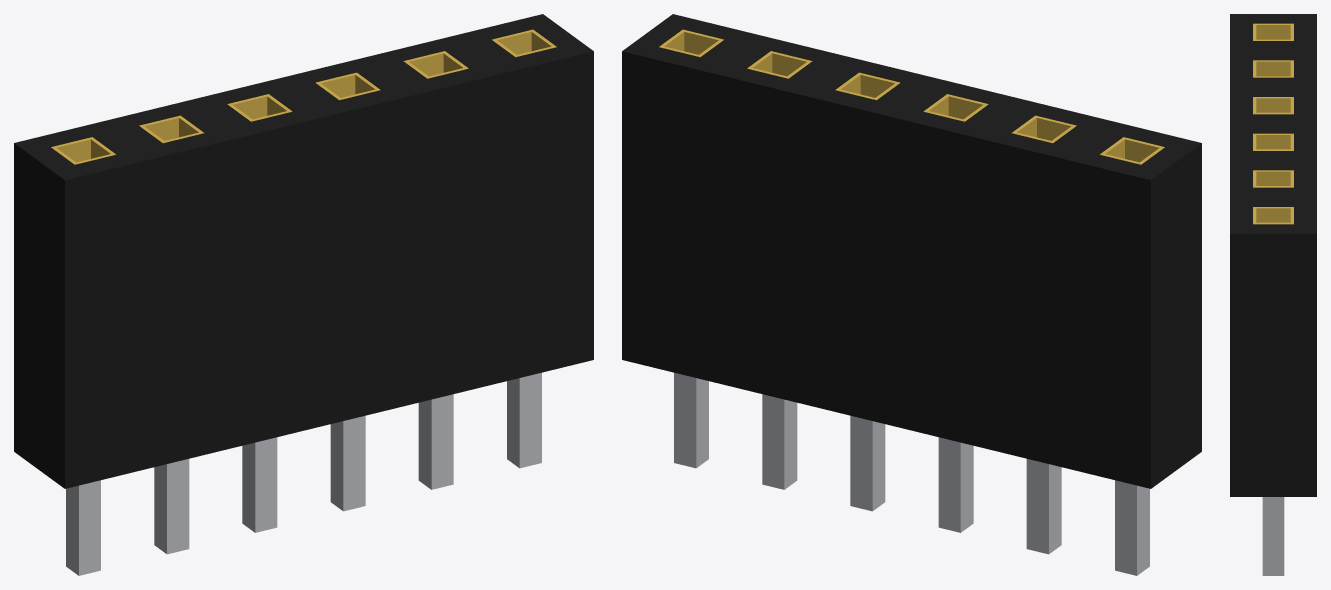
Rendered from socket-strip-1x6.glb.
3 renders of one model, left to right at view 1: azimuth 30°, elevation 25°; view 2: azimuth 150°, elevation 25°; view 3: azimuth 270°, elevation 25°, orthographic. The views are drawn at different scales.
Visible parts, largest first — view 1: object 1, tail-2, tail-3, tail-4, tail-5, tail-6, tail-1, socket-4, socket-1, socket-2, socket-3, socket-5 (+1 smaller); view 2: object 1, tail-2, tail-3, tail-4, tail-5, tail-6, tail-1, socket-4, socket-1, socket-2, socket-3, socket-5 (+1 smaller); view 3: object 1, tail-6, socket-1, socket-2, socket-3, socket-4, socket-5, socket-6.
Part boxes in pixels (box(x1,y1,x2,y2)): object 1: box(14, 14, 593, 488); tail-2: box(154, 459, 189, 554); tail-3: box(242, 437, 277, 532); tail-4: box(330, 415, 365, 511); tail-5: box(418, 394, 453, 489); tail-6: box(507, 372, 541, 468); tail-1: box(66, 480, 100, 575); socket-4: box(315, 72, 380, 100); socket-1: box(51, 137, 115, 164); socket-2: box(139, 115, 203, 143); socket-3: box(227, 94, 292, 121); socket-5: box(403, 51, 468, 78); object 1: box(622, 14, 1201, 488); tail-2: box(1026, 459, 1061, 554); tail-3: box(938, 437, 973, 532); tail-4: box(850, 415, 885, 511); tail-5: box(762, 394, 797, 489); tail-6: box(674, 372, 708, 468); tail-1: box(1115, 480, 1149, 575); socket-4: box(835, 72, 900, 100); socket-1: box(1100, 137, 1164, 164); socket-2: box(1012, 115, 1076, 143); socket-3: box(923, 94, 988, 121); socket-5: box(747, 51, 812, 78); object 1: box(1230, 14, 1316, 496); tail-6: box(1262, 497, 1284, 575); socket-1: box(1253, 23, 1293, 40); socket-2: box(1253, 60, 1293, 77); socket-3: box(1253, 97, 1293, 114); socket-4: box(1253, 133, 1293, 150); socket-5: box(1253, 170, 1293, 187); socket-6: box(1253, 207, 1293, 224).
Bounding box in the file's own units: 0.0152 × 0.0115 × 0.00254.
